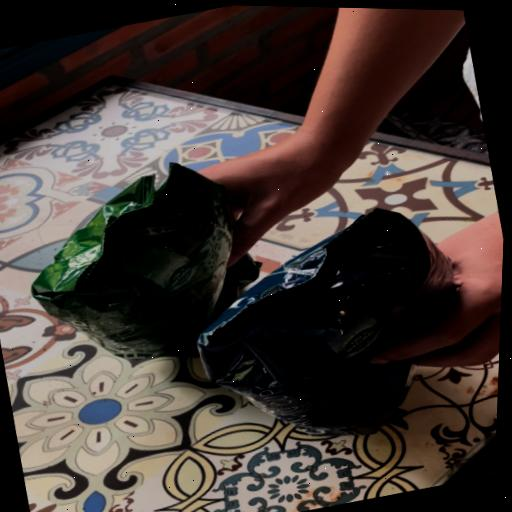cafe_hat: (197, 208, 455, 436)
cafe_xay: (31, 163, 258, 359)
